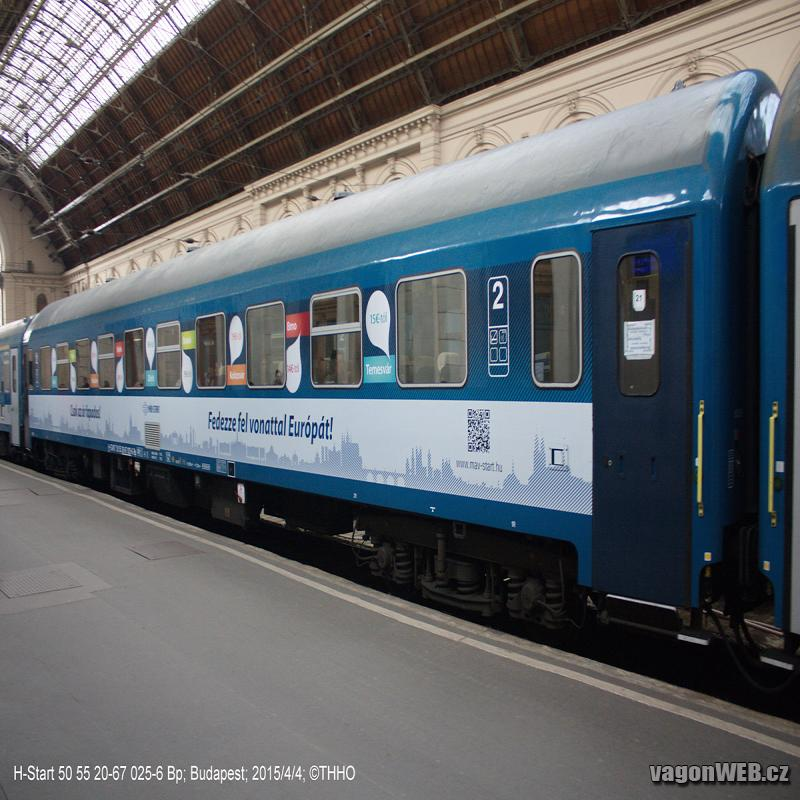train: (22, 68, 782, 691)
